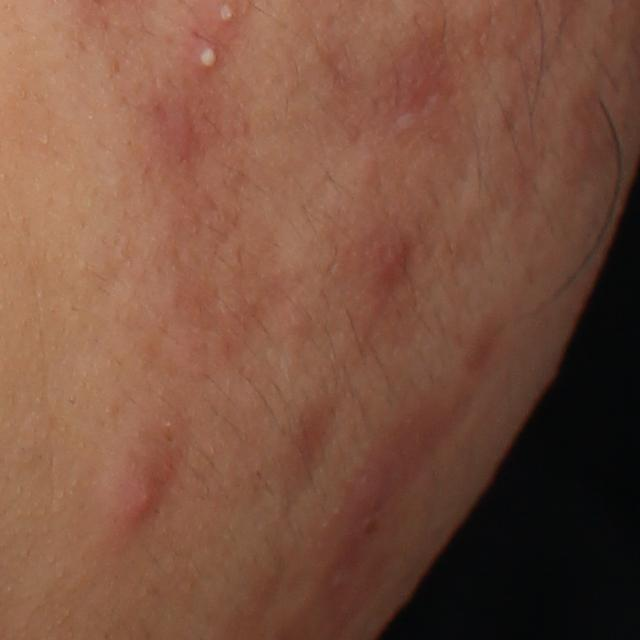papule: (102, 433, 182, 529), (363, 230, 424, 290)
pustule: (186, 30, 228, 74)
